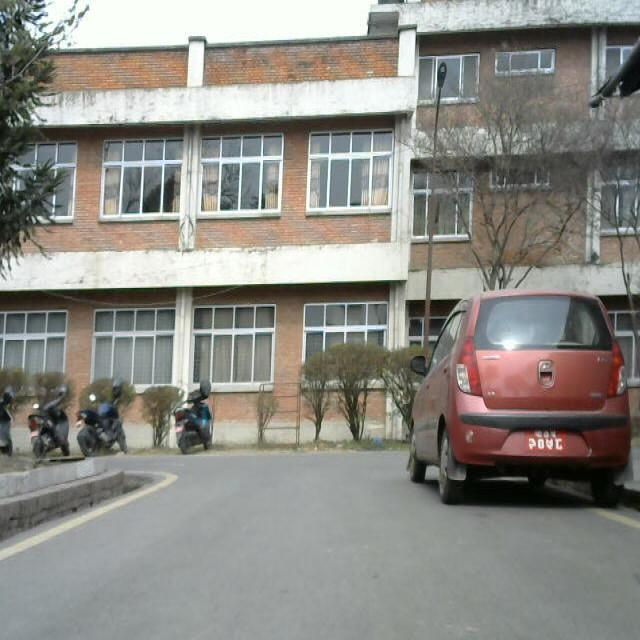Bike: (75, 373, 136, 464), (170, 368, 224, 468), (29, 377, 79, 471)
Buildings: (41, 40, 401, 455)
Car: (405, 295, 640, 521)
Pole: (421, 55, 450, 387)
Road: (0, 462, 640, 633)
trees: (0, 0, 59, 277)
